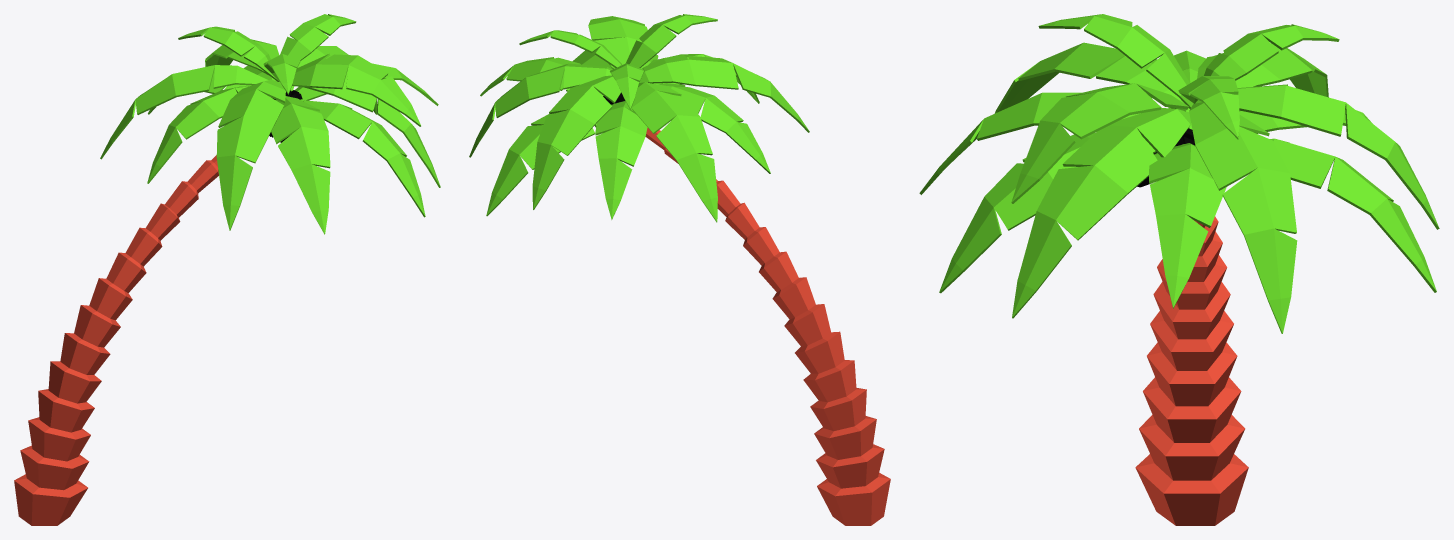
Rendered from Palm_7.fbx.
3 views of the same model, side by side, from view 1: azimuth 30°, elevation 25°; view 2: azimuth 150°, elevation 25°; view 3: azimuth 270°, elevation 25° (orthographic). The views are drawn at different scales.
Parts seen in each view (by area): view 1: Palm_7; view 2: Palm_7; view 3: Palm_7.
Part boxes in pixels (x1,y1,x2,y2): Palm_7: (14, 14, 440, 525); Palm_7: (469, 14, 890, 525); Palm_7: (919, 14, 1439, 525).
Bounding box in the file's own units: 3.03 × 3.02 × 2.2.
